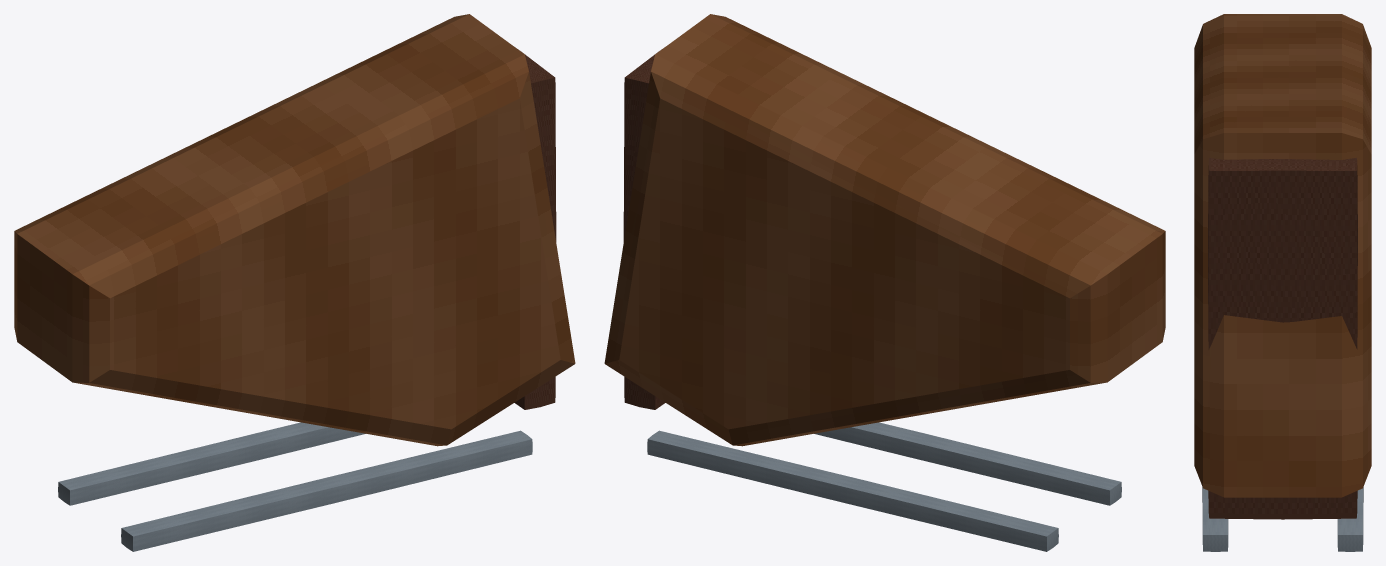
The picture shows the model from 3 angles, left to right: view 1: azimuth 30°, elevation 25°; view 2: azimuth 150°, elevation 25°; view 3: azimuth 270°, elevation 25°; orthographic projection. The views are drawn at different scales.
Parts seen in each view (by area): view 1: wood.0, steel.3, steel.2, leather.1; view 2: wood.0, steel.2, steel.3, leather.1; view 3: wood.0, leather.1, steel.2, steel.3.
Boxes of the visible parts, x1,y1,x2,y2 form: wood.0: (14,14,575,446); steel.3: (121,430,532,551); steel.2: (58,422,365,505); leather.1: (514,49,556,409); wood.0: (604,14,1165,446); steel.2: (647,430,1058,551); steel.3: (814,422,1121,505); leather.1: (623,49,665,409); wood.0: (1194,14,1371,497); leather.1: (1208,157,1357,519); steel.2: (1337,487,1363,551); steel.3: (1202,487,1228,551).
Bounding box in the file's own units: 0.367 × 0.2753 × 0.105.
Materials: 3 (3 with a texture image).
